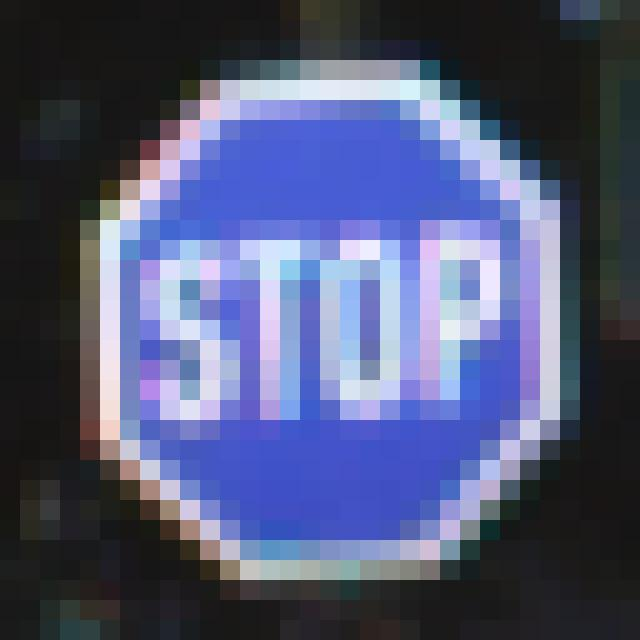STOP: (101, 75, 558, 568)
